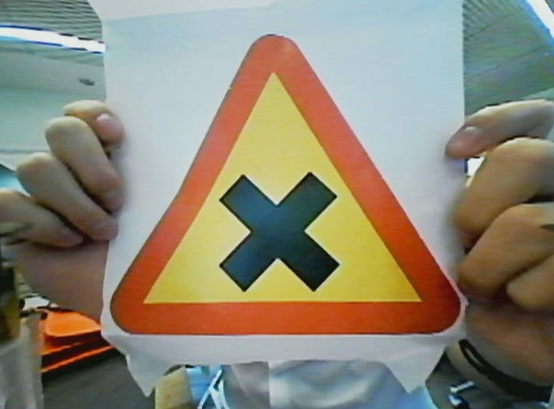junction: (120, 21, 459, 345)
